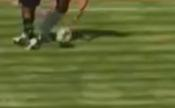ball: (55, 26, 74, 45)
